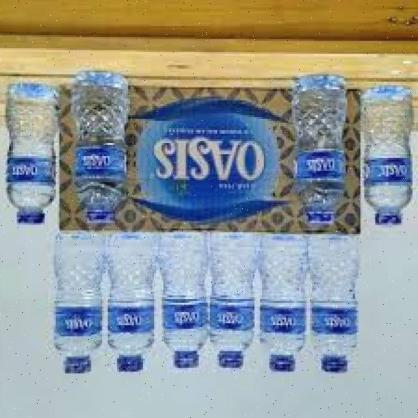bottle: (57, 70, 132, 232), (273, 70, 349, 226), (43, 233, 109, 384), (303, 236, 368, 379), (147, 237, 215, 370), (359, 78, 412, 228), (0, 87, 51, 232), (102, 232, 155, 368), (205, 239, 257, 370), (251, 241, 300, 371)
cap: (57, 357, 98, 376), (83, 204, 118, 226), (320, 356, 351, 376), (266, 352, 294, 374), (115, 356, 148, 374), (16, 210, 46, 229), (300, 211, 339, 225), (175, 350, 201, 370), (214, 352, 244, 369), (374, 212, 402, 229)
label: (70, 142, 130, 176), (360, 157, 413, 189), (304, 301, 356, 333), (303, 147, 350, 181), (259, 296, 306, 330), (49, 306, 101, 334), (108, 307, 157, 334), (164, 302, 207, 326), (215, 300, 255, 325), (13, 158, 57, 180)
